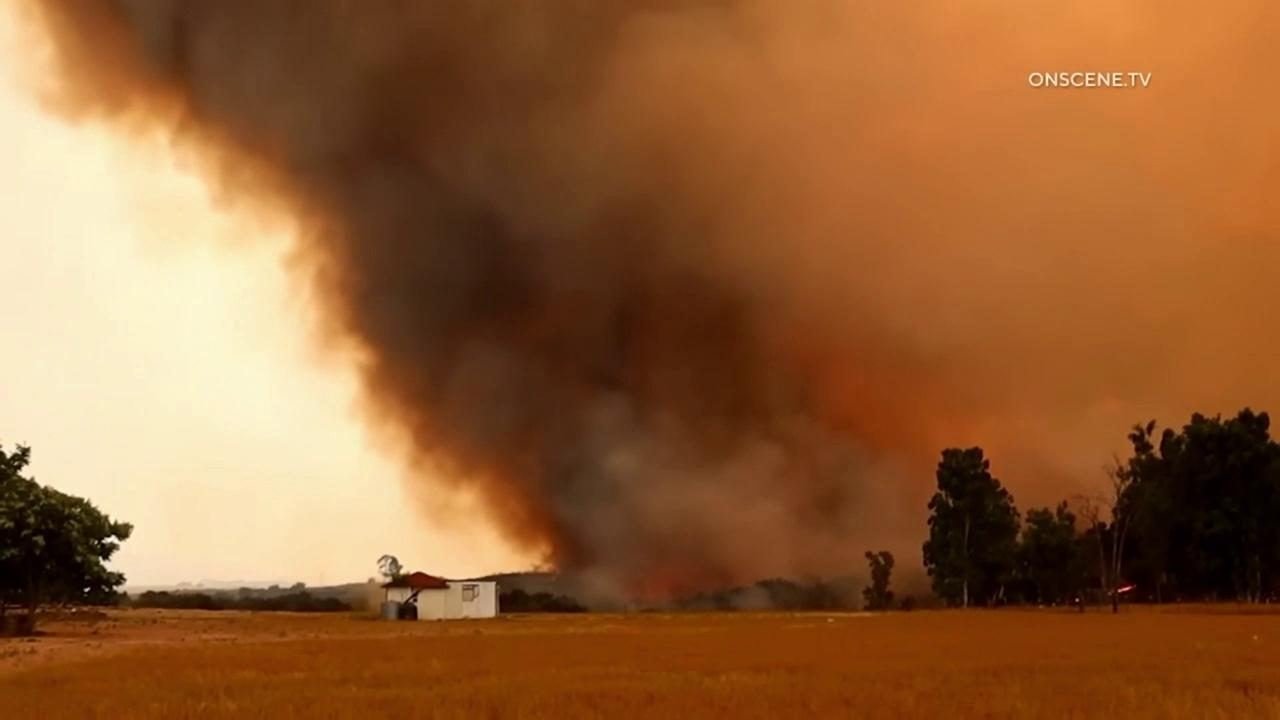fire: (1115, 585, 1133, 593)
smoke: (3, 0, 1280, 614), (365, 581, 387, 620)
